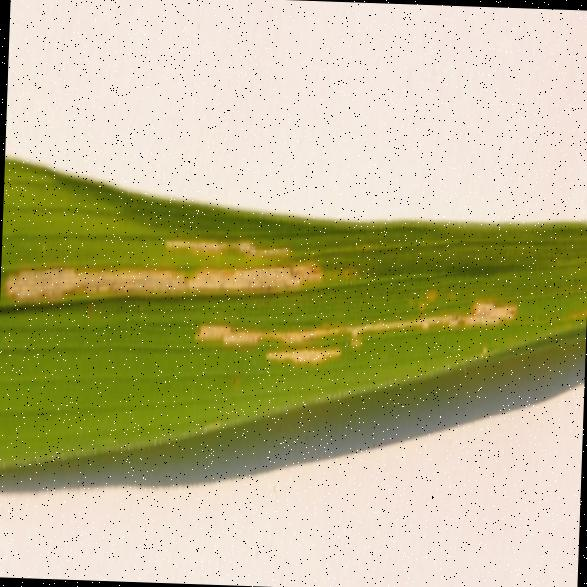Bacteria_Leaf_Blight: (4, 202, 542, 401)
